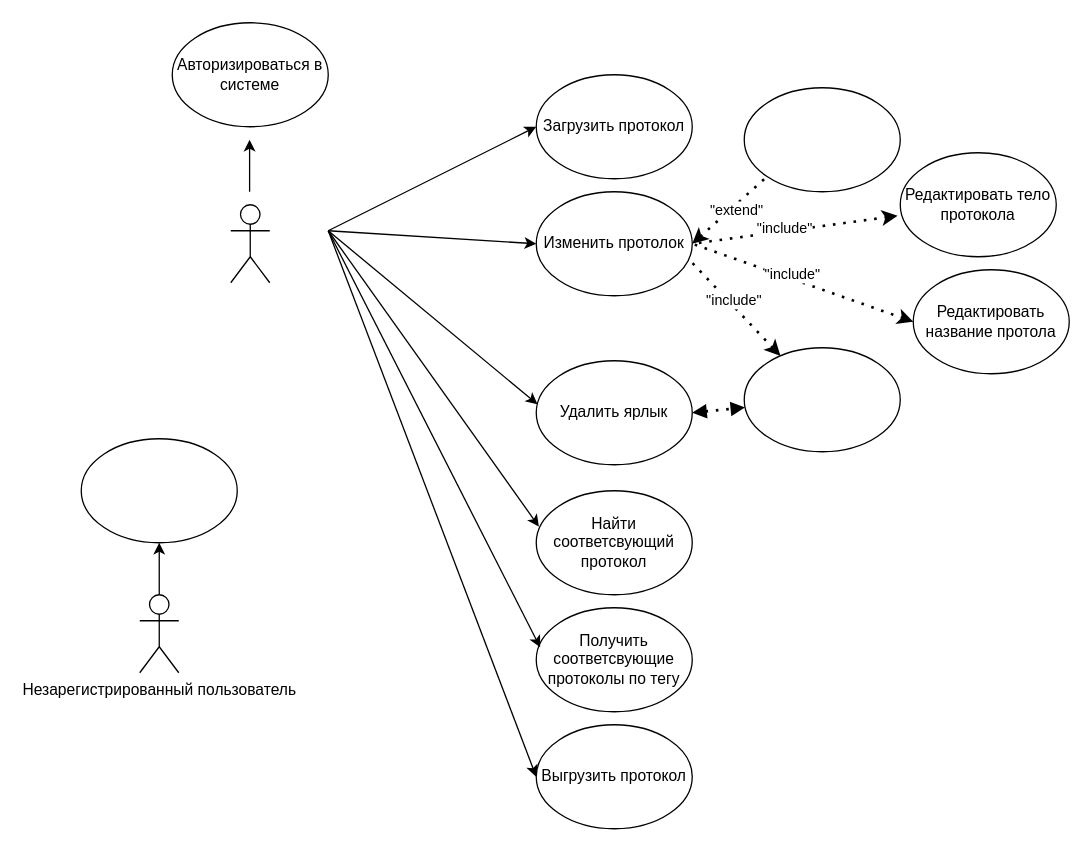
Some shapes in this 1092 by 851 pixel diagram are drawn without their labels. The shapes that lost their labels are listed below. From the top down, each one's centre as x and y in pixels, then its label:
the point at 821,139: Задать ярлык для протолока
the point at 249,243: Зарегистрированный пользователь
the point at 821,399: Отвязать ярлык от протокола
the point at 158,490: Пройти регистрацию в системе
